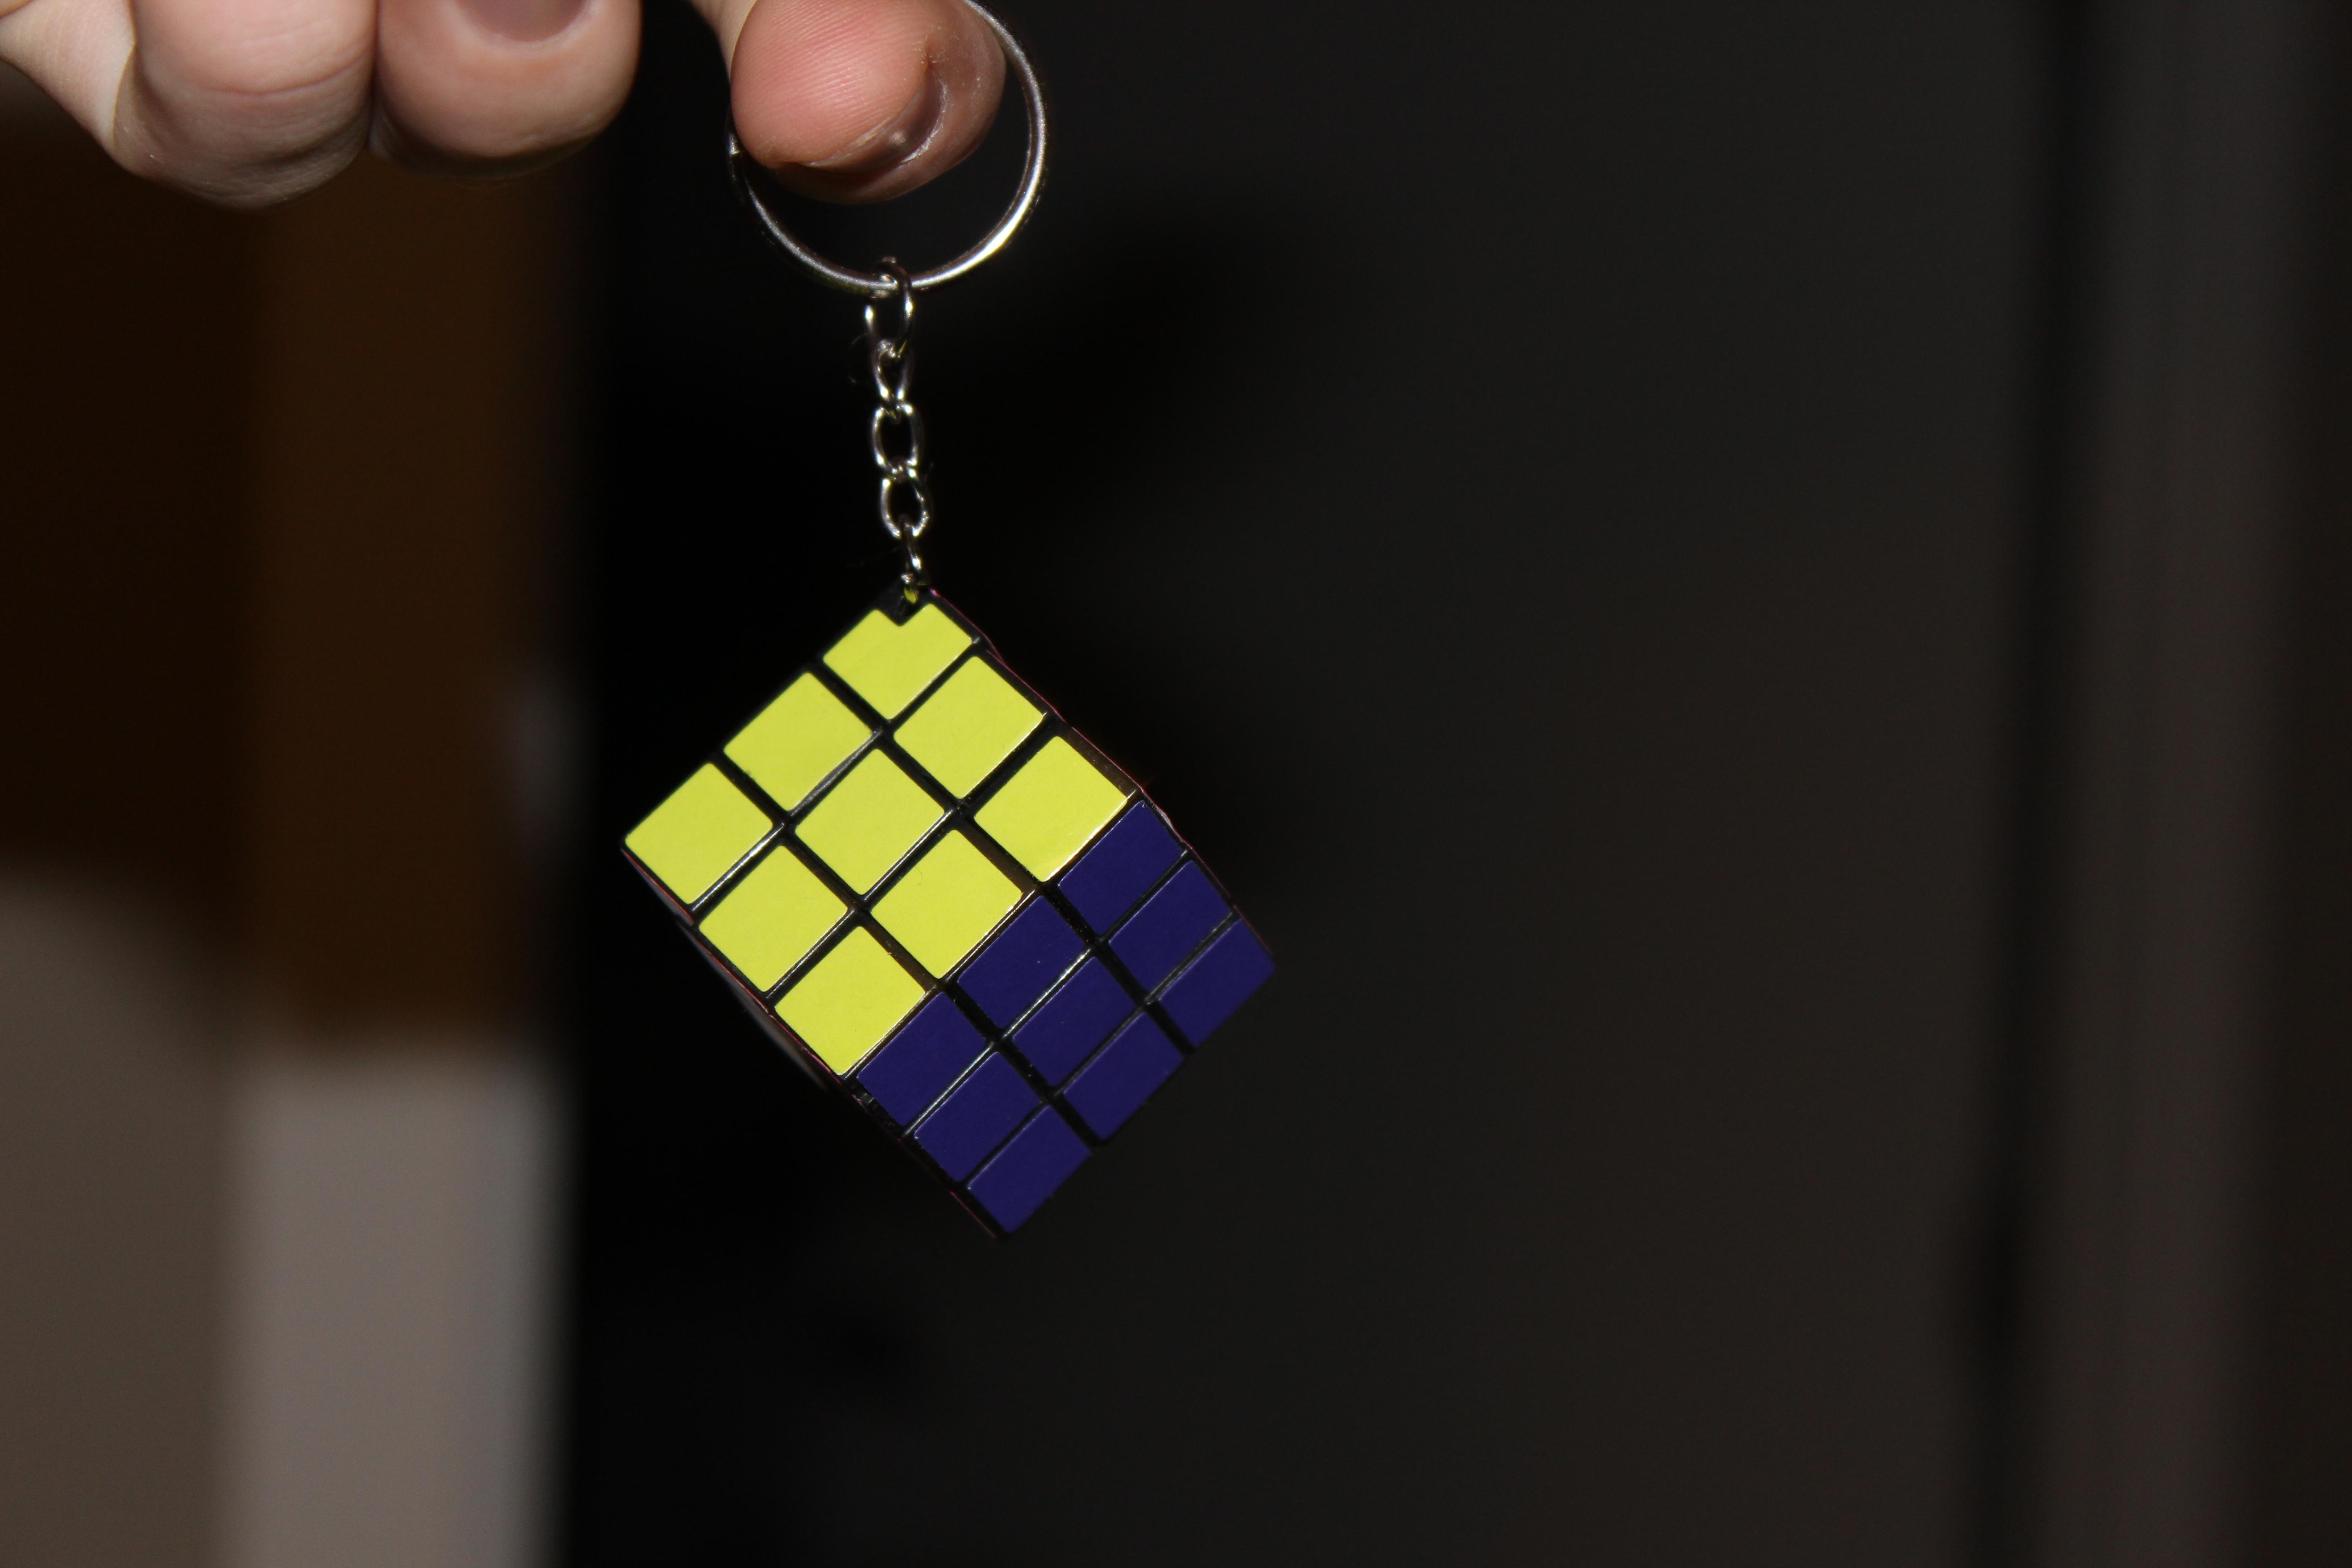rubiksCube: (571, 558, 1304, 1251)
